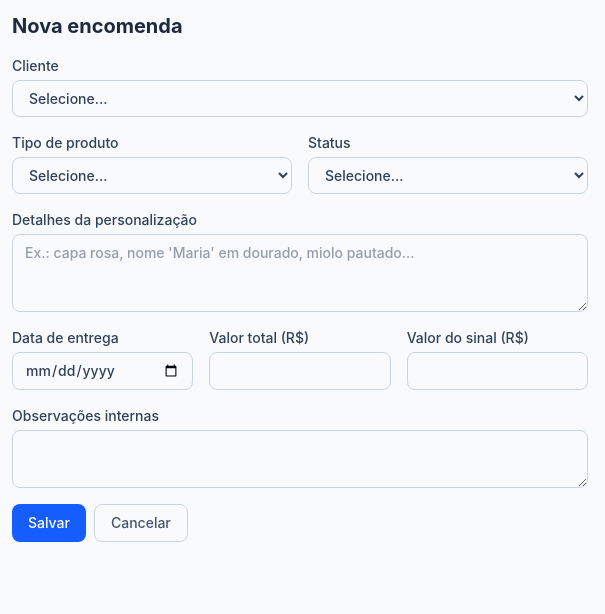
EncomendaFormPage — criação › bloqueia envio quando sinal é maior que o total
Select "Maria Silva" in the dropdown labelled "Cliente" at (300, 98), box [12, 80, 588, 117]
Select "Caderno" in the dropdown labelled "Tipo de produto" at (152, 176), box [12, 157, 292, 194]
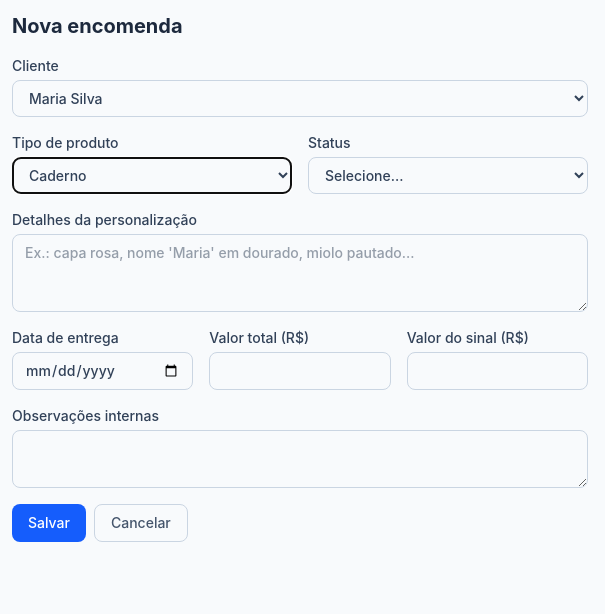
Select "Orçado" in the dropdown labelled "Status" at (448, 176), box [308, 157, 588, 194]
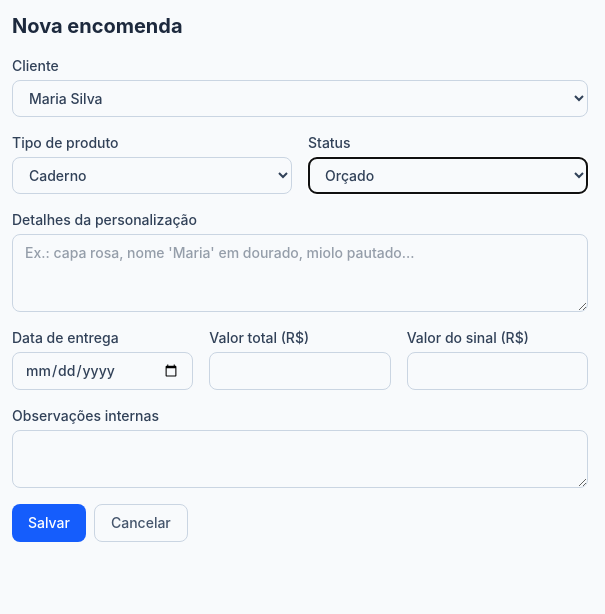
Type "Capa rosa com nome bordado" into the text box labelled "Detalhes da personalização" at (300, 273), box [12, 234, 588, 312]
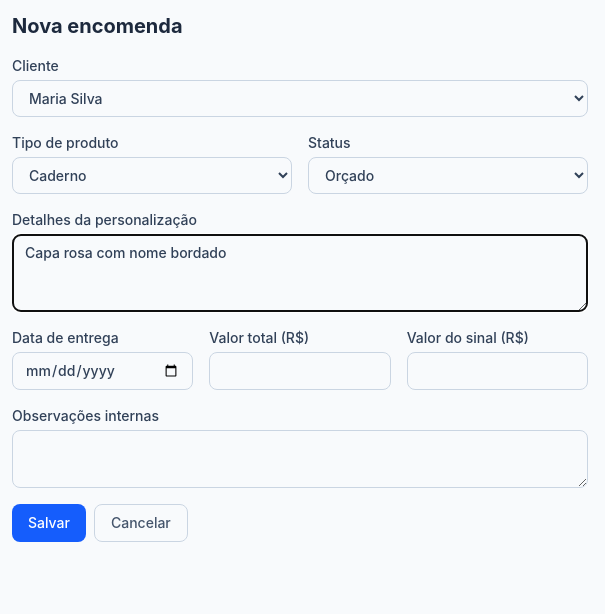
Type "2026-10-01" into the date field labelled "Data de entrega" at (103, 371), box [12, 352, 193, 390]
Type "100" into the number field labelled "Valor total (R$)" at (300, 371), box [209, 352, 391, 390]
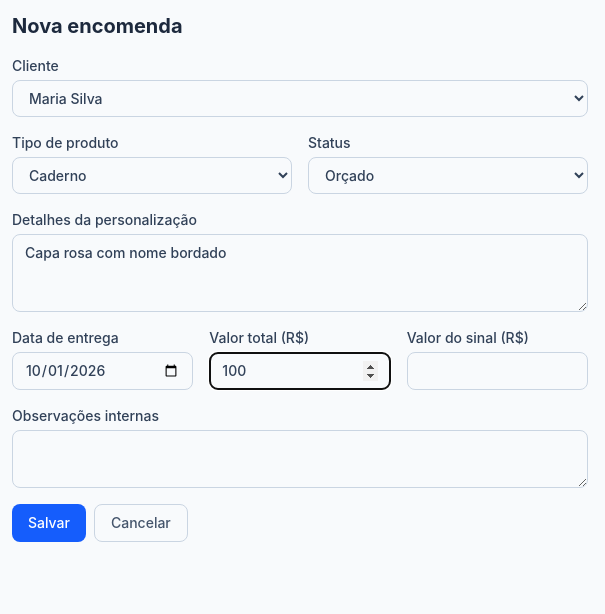
Type "150" into the number field labelled "Valor do sinal (R$)" at (497, 371), box [407, 352, 588, 390]
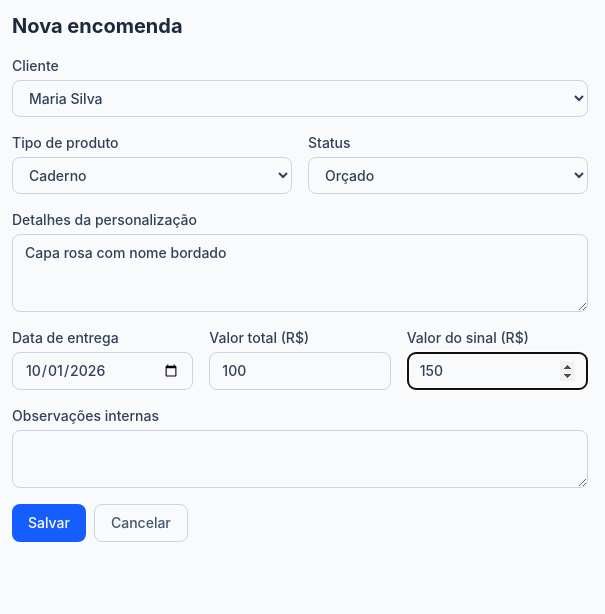
Click the button "Salvar" at (49, 523), box [12, 504, 86, 542]
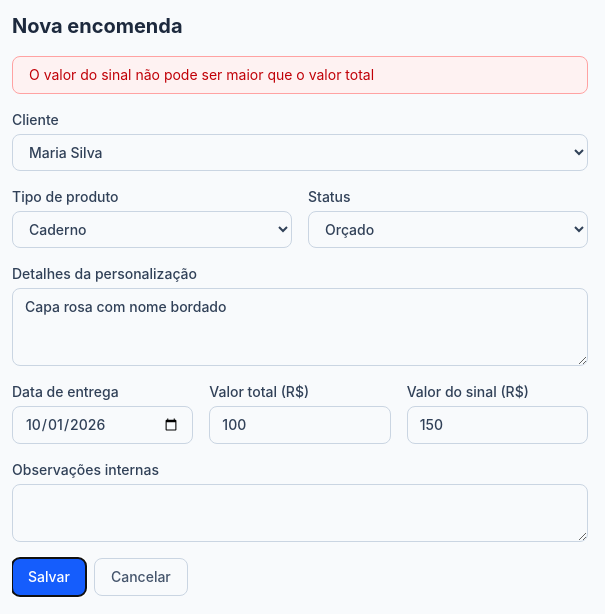
Expected: the message shows "sinal não pode ser maior que o valor total", [29, 66, 374, 83]
